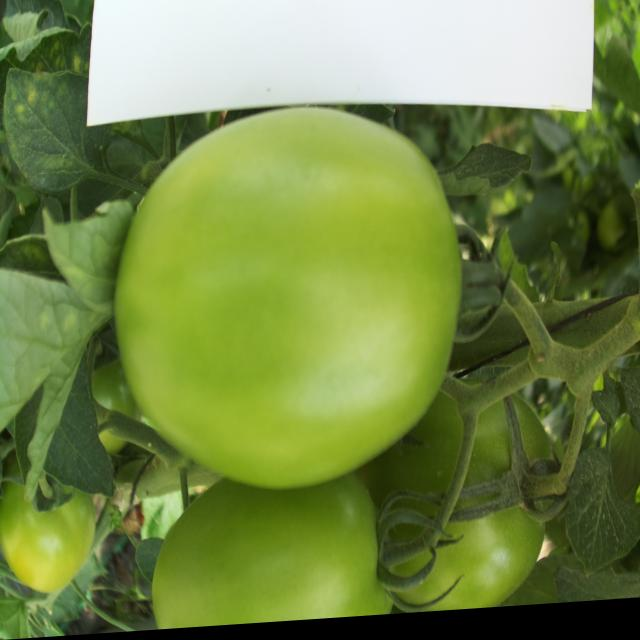kirmizi: (80, 124, 480, 495)
yesil: (101, 53, 600, 559)
